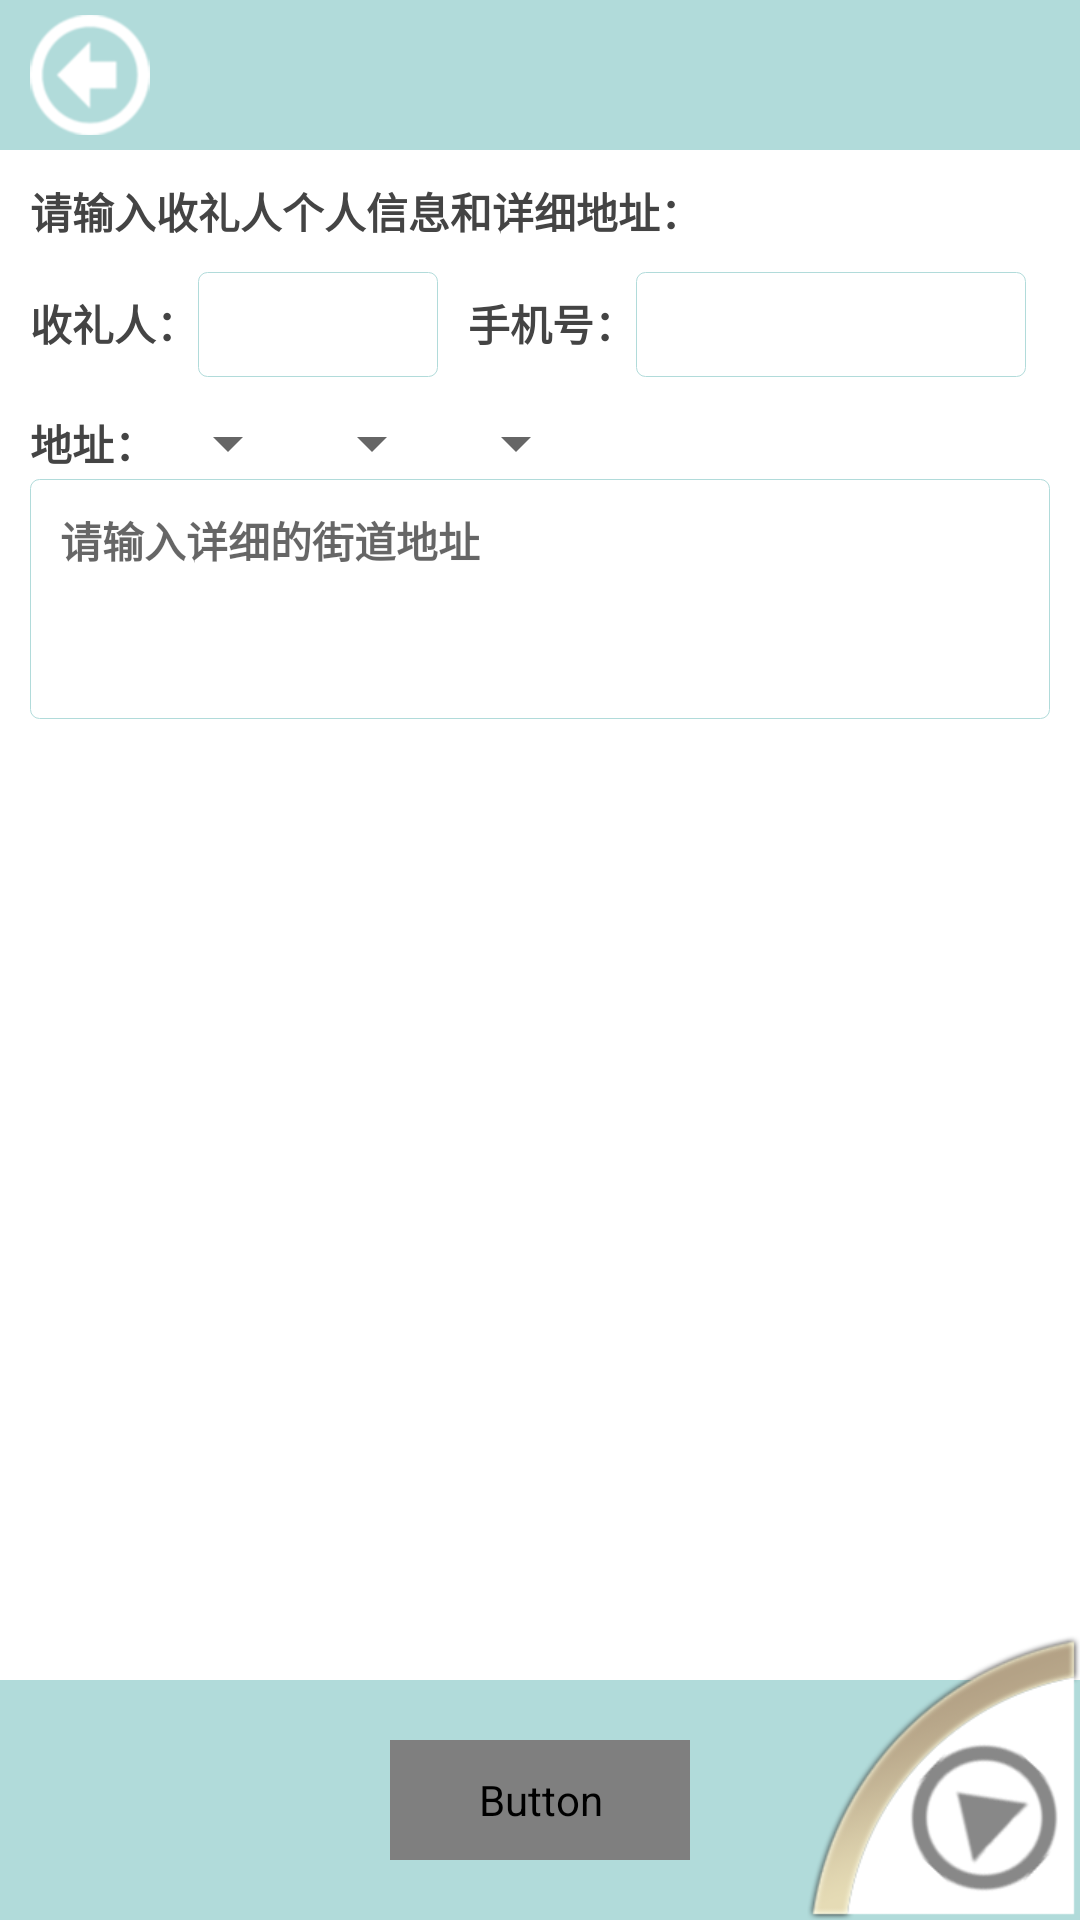

Point at icon controls on the screen. Image size 1080px x 1920px, points as (x=x, y=y).
back: (x=90, y=75)
